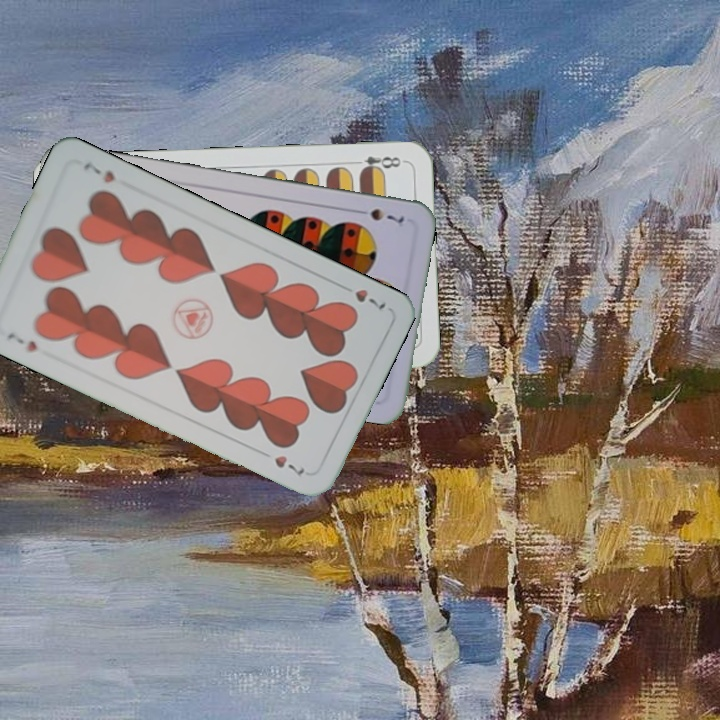E8: (348, 152, 407, 176)
H7: (335, 279, 389, 312), (3, 328, 40, 355)
S7: (351, 204, 407, 226)
